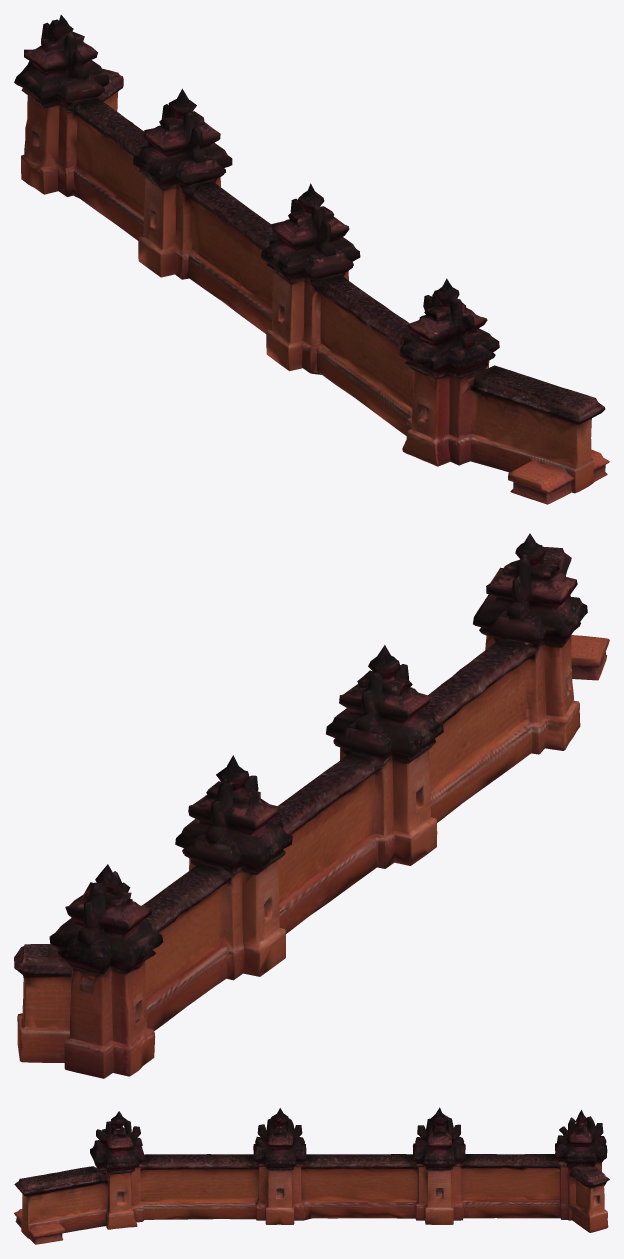
The model's file is pagar_bata.glb.
The picture shows the model from 3 angles, top to bottom: view 1: azimuth 30°, elevation 25°; view 2: azimuth 150°, elevation 25°; view 3: azimuth 270°, elevation 25°; orthographic projection. The views are drawn at different scales.
Parts seen in each view (by area): view 1: tripo_node_ab50462e-c45c-42f3-931f-4becd14d16c9; view 2: tripo_node_ab50462e-c45c-42f3-931f-4becd14d16c9; view 3: tripo_node_ab50462e-c45c-42f3-931f-4becd14d16c9.
Boxes of the visible parts, bbox=[...] form: tripo_node_ab50462e-c45c-42f3-931f-4becd14d16c9: bbox=[14, 15, 609, 504]; tripo_node_ab50462e-c45c-42f3-931f-4becd14d16c9: bbox=[14, 533, 609, 1078]; tripo_node_ab50462e-c45c-42f3-931f-4becd14d16c9: bbox=[14, 1107, 609, 1244].
Size of the model in its own units: 0.1724 by 0.1994 by 1.
Materials: 1 (1 with a texture image).
